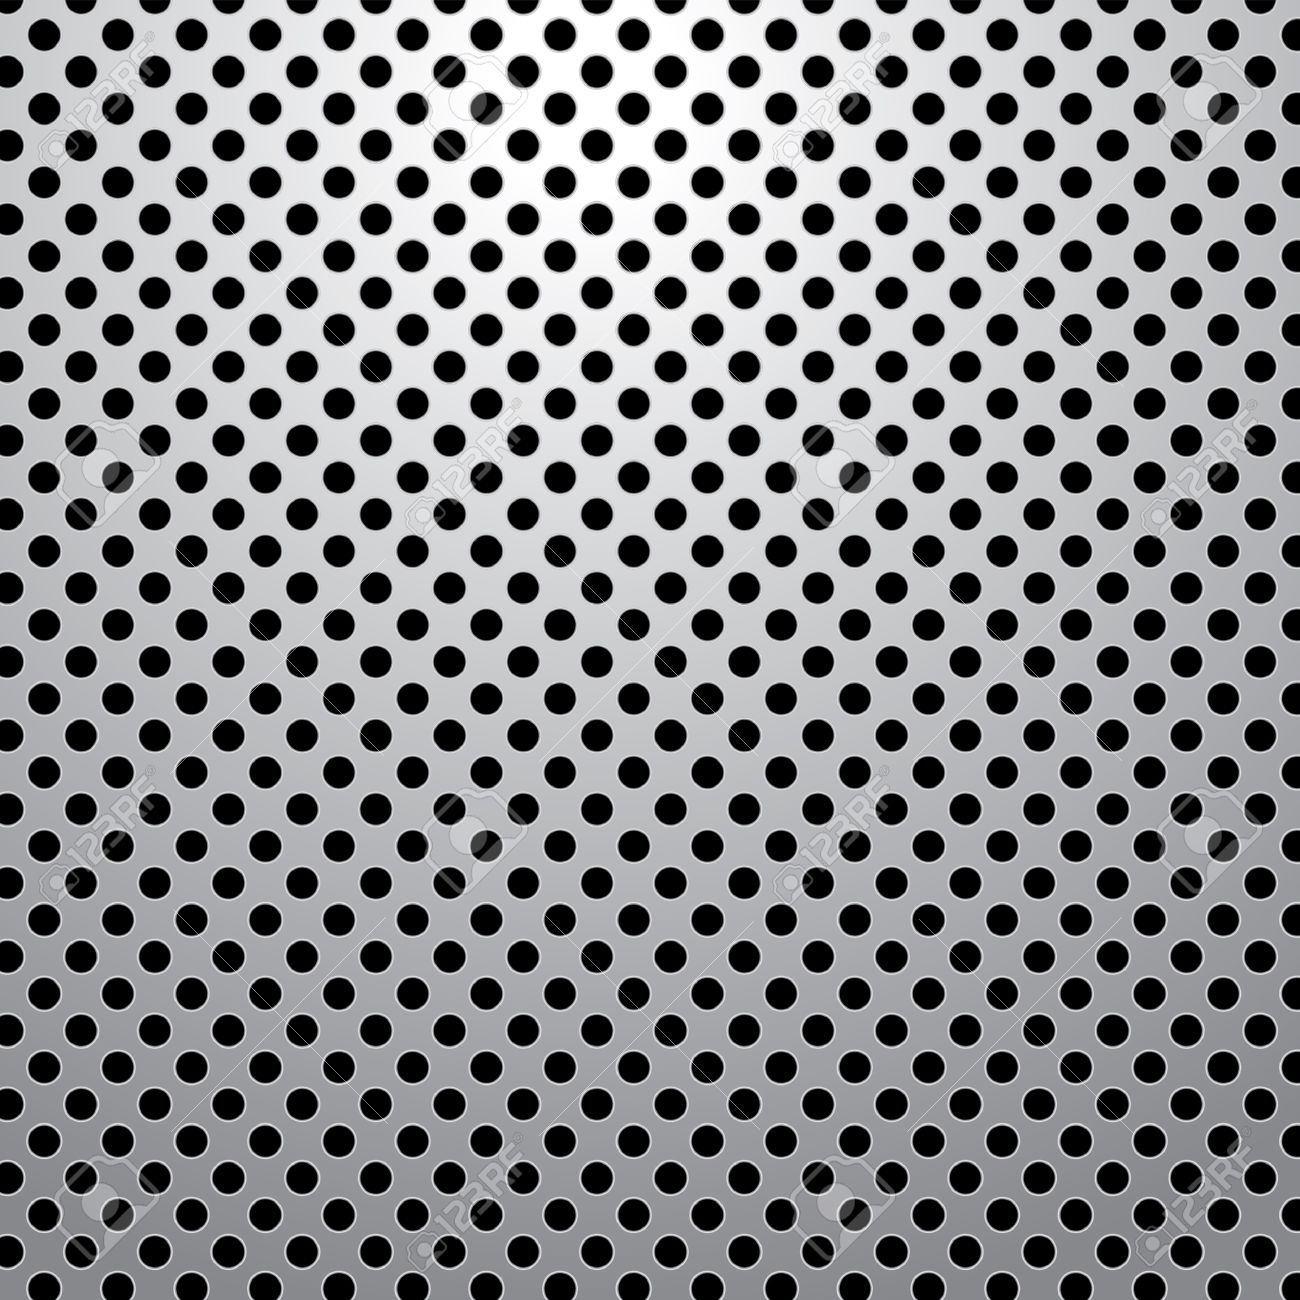Hole: (1090, 1157, 1138, 1200), (135, 1007, 176, 1056), (130, 715, 180, 756), (796, 937, 844, 979), (1127, 1193, 1171, 1237), (390, 1119, 435, 1163), (944, 1010, 989, 1052), (795, 1229, 840, 1271), (96, 969, 139, 1014), (20, 973, 65, 1015), (981, 1195, 1027, 1237), (1055, 1119, 1101, 1161), (206, 568, 252, 610), (1163, 1085, 1213, 1123), (1129, 1120, 1173, 1163), (944, 1085, 988, 1127), (871, 935, 914, 979), (721, 1230, 765, 1273), (60, 860, 104, 902), (60, 936, 104, 979), (1201, 1193, 1246, 1235), (352, 345, 398, 387), (243, 824, 288, 865), (1055, 1194, 1101, 1235), (981, 1121, 1027, 1162), (132, 1231, 179, 1271), (56, 1085, 104, 1124), (686, 14, 729, 57), (1164, 935, 1207, 977), (761, 973, 804, 1015), (1090, 1085, 1135, 1126), (1057, 899, 1101, 940), (835, 1193, 879, 1235), (465, 235, 507, 279), (171, 1194, 215, 1236), (57, 493, 102, 533), (24, 530, 64, 575), (465, 306, 505, 352), (833, 1123, 882, 1160), (1129, 899, 1171, 940), (1129, 971, 1171, 1013), (1129, 1046, 1171, 1088), (1018, 1231, 1061, 1273), (798, 1085, 840, 1126), (392, 310, 435, 351), (244, 235, 287, 276), (317, 898, 360, 939), (61, 1010, 104, 1051), (21, 15, 65, 56), (24, 163, 68, 204), (944, 1231, 988, 1271), (979, 974, 1023, 1014), (873, 565, 913, 610), (835, 604, 879, 644), (761, 1194, 801, 1238), (60, 640, 104, 681), (208, 640, 249, 685), (243, 1046, 287, 1087), (95, 1120, 139, 1161), (651, 935, 690, 980), (983, 1044, 1021, 1090), (573, 1010, 619, 1048), (23, 606, 69, 644), (1202, 530, 1244, 571), (1202, 973, 1244, 1014), (1168, 1011, 1210, 1052), (1240, 1083, 1282, 1125), (1055, 973, 1096, 1014), (762, 454, 804, 495), (724, 863, 765, 905), (835, 973, 876, 1014), (539, 974, 581, 1015), (650, 713, 692, 755), (207, 936, 249, 977), (282, 936, 324, 977), (21, 1120, 63, 1162), (245, 1194, 287, 1236), (1093, 50, 1136, 90), (576, 125, 619, 165), (245, 88, 288, 129), (1165, 1158, 1208, 1199), (1054, 1046, 1096, 1087), (1090, 640, 1133, 681), (355, 1083, 395, 1126), (392, 1046, 435, 1087), (429, 1011, 471, 1051), (612, 383, 655, 424), (282, 273, 325, 313), (98, 381, 140, 421), (135, 789, 177, 830), (133, 936, 176, 976), (207, 1011, 248, 1054), (170, 1121, 213, 1162), (61, 1231, 104, 1271), (723, 715, 767, 755), (870, 1232, 914, 1271), (246, 310, 290, 349), (208, 421, 252, 461), (60, 570, 104, 610), (136, 640, 175, 685), (279, 643, 323, 682), (171, 752, 215, 792), (95, 826, 139, 865), (207, 1158, 251, 1198), (687, 606, 732, 644), (795, 643, 840, 681), (870, 1085, 915, 1123), (649, 274, 694, 312), (540, 235, 579, 280), (133, 494, 179, 532), (171, 606, 217, 644), (96, 604, 142, 642), (1092, 1233, 1138, 1270), (96, 15, 138, 56), (244, 15, 286, 56), (835, 14, 876, 55), (318, 88, 360, 129), (795, 199, 837, 239), (1167, 198, 1207, 239), (1129, 457, 1170, 498), (1240, 567, 1282, 607), (1204, 824, 1244, 865), (1242, 936, 1282, 977), (1204, 1048, 1245, 1088), (1240, 1156, 1281, 1198), (1093, 1011, 1133, 1052), (1094, 862, 1135, 904), (1056, 751, 1098, 792), (688, 235, 730, 275), (871, 492, 913, 532), (800, 567, 840, 608), (835, 749, 875, 790), (724, 1083, 765, 1124), (430, 1231, 471, 1271), (467, 1048, 508, 1088), (577, 420, 619, 461), (649, 346, 690, 387), (246, 531, 288, 571), (170, 899, 211, 940), (100, 1046, 140, 1088), (245, 1119, 287, 1160), (25, 1193, 65, 1235), (761, 15, 804, 55), (1164, 640, 1207, 680), (1204, 1121, 1246, 1161), (1019, 1011, 1062, 1050), (1017, 862, 1060, 901), (910, 236, 949, 279), (870, 789, 913, 829), (796, 1010, 839, 1049), (869, 1157, 912, 1196), (614, 308, 654, 351), (135, 420, 177, 460), (207, 495, 250, 535), (320, 682, 363, 721), (320, 825, 360, 868), (21, 826, 64, 865), (244, 973, 287, 1012), (318, 1045, 357, 1088), (131, 1085, 174, 1124), (282, 1231, 321, 1274), (390, 15, 435, 54), (465, 15, 510, 54), (60, 201, 104, 239), (1165, 1233, 1210, 1271), (1090, 348, 1135, 386), (686, 532, 730, 570), (908, 750, 946, 794), (686, 1121, 730, 1160), (429, 1160, 473, 1198), (96, 456, 140, 494), (280, 496, 324, 535), (244, 679, 288, 717), (96, 679, 140, 717), (317, 752, 361, 790), (242, 752, 286, 790), (795, 1160, 840, 1196), (319, 15, 360, 56), (614, 14, 655, 55), (1018, 199, 1058, 239), (1240, 198, 1281, 238), (1240, 419, 1281, 460), (1240, 640, 1281, 681), (946, 715, 987, 756), (1090, 713, 1131, 754), (1019, 275, 1060, 315), (908, 899, 949, 939), (908, 973, 949, 1013), (688, 974, 729, 1014), (688, 1195, 729, 1236), (540, 1195, 581, 1236), (467, 1121, 507, 1162), (613, 1046, 654, 1087), (540, 310, 581, 350), (319, 235, 360, 275), (135, 273, 175, 313), (319, 1120, 360, 1161), (1129, 15, 1170, 55), (1204, 12, 1243, 54), (1129, 88, 1170, 127), (137, 125, 179, 164), (649, 199, 690, 238), (1167, 271, 1206, 313), (1130, 236, 1171, 275), (1240, 714, 1280, 756), (1129, 826, 1170, 865), (1239, 1012, 1281, 1051), (1240, 1231, 1282, 1270), (836, 236, 877, 275), (762, 308, 804, 348), (799, 862, 838, 904), (762, 899, 801, 940), (724, 937, 765, 976), (724, 1010, 765, 1049), (762, 1046, 801, 1088), (687, 1048, 729, 1087), (579, 1232, 618, 1274), (390, 899, 432, 938), (467, 679, 506, 720), (649, 642, 690, 681), (427, 348, 469, 387), (357, 271, 396, 313), (320, 531, 360, 573), (171, 680, 213, 719), (208, 715, 250, 755), (60, 1157, 101, 1196), (871, 274, 914, 312), (796, 715, 839, 754), (504, 788, 542, 831), (211, 861, 249, 904), (870, 1013, 914, 1050), (171, 532, 215, 569), (1240, 125, 1280, 165), (944, 126, 985, 165), (504, 125, 543, 165), (173, 164, 213, 204), (688, 161, 729, 200), (871, 199, 911, 239), (1130, 310, 1170, 349), (1204, 604, 1244, 643), (1130, 677, 1170, 717), (1240, 789, 1281, 829), (1240, 863, 1281, 902), (1167, 862, 1207, 901), (1020, 936, 1060, 976), (1019, 643, 1058, 683), (762, 236, 802, 275), (725, 273, 765, 312), (763, 532, 804, 571), (836, 680, 876, 719), (870, 714, 910, 755), (835, 826, 875, 865), (688, 900, 729, 939), (910, 1195, 949, 1236), (651, 1231, 690, 1271), (468, 1195, 508, 1235), (356, 1232, 396, 1271), (393, 1195, 433, 1235), (356, 1158, 396, 1198), (614, 1120, 655, 1160), (504, 1085, 544, 1124), (540, 1048, 580, 1088), (504, 1010, 544, 1049), (356, 937, 396, 976), (575, 864, 615, 904), (430, 863, 469, 904), (465, 827, 506, 867), (614, 825, 654, 865), (393, 531, 433, 570), (650, 420, 690, 460), (465, 385, 506, 424), (540, 385, 581, 424), (429, 273, 469, 312), (613, 237, 652, 277), (62, 273, 102, 312), (136, 346, 176, 386), (282, 420, 323, 460), (171, 826, 212, 865), (171, 974, 211, 1014), (135, 1160, 175, 1199), (99, 1195, 139, 1235), (210, 1232, 250, 1271), (355, 52, 396, 90), (908, 15, 950, 54), (982, 15, 1024, 54), (540, 88, 579, 130), (467, 87, 505, 129), (1205, 677, 1243, 719), (1206, 899, 1244, 940), (983, 899, 1021, 940), (1093, 273, 1131, 314), (724, 346, 765, 385), (836, 531, 877, 569), (762, 752, 804, 790), (724, 790, 765, 829), (835, 901, 876, 939), (836, 1046, 874, 1088), (908, 1048, 950, 1086), (910, 1120, 948, 1162), (615, 1195, 654, 1237), (540, 1120, 579, 1162), (615, 974, 654, 1015), (540, 899, 579, 940), (649, 790, 690, 829), (430, 715, 471, 754), (615, 530, 654, 571), (25, 310, 67, 348), (25, 385, 67, 423), (207, 1085, 249, 1123), (1165, 54, 1208, 90), (96, 163, 139, 200), (871, 348, 914, 385), (686, 679, 729, 715), (721, 1160, 764, 1196), (133, 569, 176, 606), (210, 51, 249, 90), (62, 51, 101, 90), (798, 51, 837, 90), (1057, 14, 1096, 54), (1057, 89, 1096, 129), (689, 88, 729, 127), (171, 89, 211, 129), (504, 200, 543, 239), (1204, 385, 1243, 424), (1130, 531, 1169, 570), (1130, 604, 1169, 643), (1020, 1158, 1060, 1198), (946, 863, 986, 902), (1057, 826, 1096, 865), (1020, 789, 1060, 829), (1056, 680, 1095, 719), (982, 457, 1021, 496), (836, 310, 875, 349), (688, 457, 727, 496), (799, 495, 838, 535), (724, 642, 763, 681), (763, 1121, 802, 1161), (579, 1157, 618, 1196), (577, 1083, 617, 1123), (465, 901, 505, 940), (651, 862, 690, 901), (430, 790, 469, 830), (504, 717, 543, 756), (394, 385, 433, 424), (319, 460, 358, 499), (98, 531, 137, 570), (62, 789, 101, 829), (137, 864, 176, 904), (285, 863, 324, 902), (171, 15, 212, 54), (539, 15, 580, 54), (136, 200, 174, 240), (726, 199, 764, 239), (981, 164, 1021, 202), (1055, 164, 1095, 202), (1205, 235, 1243, 275), (1240, 271, 1279, 312), (1130, 381, 1168, 421), (1167, 568, 1207, 606), (1167, 715, 1207, 754), (1204, 752, 1244, 790), (946, 1160, 987, 1198), (982, 679, 1023, 717), (1056, 605, 1094, 645), (1057, 530, 1095, 570), (1021, 494, 1060, 535), (688, 386, 729, 424), (835, 456, 875, 494), (725, 495, 765, 533), (910, 605, 950, 643), (871, 643, 912, 681), (871, 863, 912, 901), (652, 1158, 690, 1199), (650, 1083, 690, 1121), (358, 1010, 396, 1050), (430, 936, 470, 974), (465, 531, 506, 569), (432, 494, 470, 535), (504, 349, 544, 387), (320, 971, 358, 1012), (283, 1011, 321, 1051), (283, 1085, 324, 1123), (577, 54, 619, 90), (98, 89, 139, 126), (1020, 1083, 1057, 1125), (983, 533, 1025, 570), (763, 385, 805, 421), (355, 423, 396, 460), (579, 346, 615, 388), (502, 276, 544, 313), (171, 311, 213, 348), (210, 348, 251, 385), (320, 383, 357, 425), (24, 680, 65, 717), (285, 713, 321, 755), (96, 754, 138, 790), (24, 1049, 65, 1086), (318, 1198, 360, 1235), (429, 127, 471, 163), (760, 680, 802, 715), (502, 1235, 545, 1270), (96, 238, 139, 274), (171, 240, 215, 275), (651, 52, 690, 90), (430, 52, 469, 90), (135, 54, 174, 92), (1020, 52, 1060, 90), (1240, 52, 1280, 90), (356, 199, 394, 238), (945, 199, 985, 237), (1205, 163, 1243, 202), (1167, 421, 1206, 460), (1240, 494, 1280, 532), (1167, 495, 1206, 533), (1130, 752, 1169, 790), (948, 938, 986, 977), (1020, 717, 1058, 756), (946, 640, 985, 680), (946, 495, 986, 533), (1057, 458, 1096, 496), (983, 310, 1021, 349), (981, 237, 1020, 275), (910, 310, 948, 349), (910, 532, 948, 571), (688, 754, 726, 793), (504, 1158, 542, 1198), (432, 1083, 470, 1123), (467, 974, 506, 1012), (651, 1012, 690, 1050), (504, 938, 542, 977), (615, 901, 654, 940), (615, 752, 654, 792), (540, 679, 579, 718), (614, 681, 654, 719), (615, 605, 654, 644), (652, 570, 690, 610), (579, 569, 617, 608), (467, 458, 506, 496), (615, 458, 654, 498), (173, 458, 212, 496), (25, 458, 64, 496), (210, 788, 248, 827), (99, 901, 138, 939), (171, 1048, 211, 1086), (761, 89, 801, 126), (210, 125, 246, 165), (318, 163, 358, 200), (468, 161, 505, 201), (983, 606, 1020, 646), (1056, 238, 1096, 275), (393, 826, 433, 863), (540, 605, 581, 642), (540, 535, 581, 571), (100, 311, 140, 348), (245, 460, 286, 496), (61, 718, 101, 755), (171, 386, 213, 421), (282, 790, 324, 826), (285, 1157, 320, 1199), (318, 607, 361, 642), (946, 52, 985, 90), (1094, 126, 1132, 164), (210, 200, 248, 238), (430, 199, 468, 237), (1094, 937, 1132, 975), (1093, 790, 1131, 829), (1021, 421, 1060, 460), (1021, 348, 1060, 386), (800, 420, 838, 458), (873, 421, 911, 460), (799, 790, 837, 829), (358, 790, 396, 829), (540, 754, 579, 792), (504, 642, 542, 680), (358, 569, 396, 607), (504, 495, 542, 533), (430, 421, 468, 460), (504, 54, 543, 90), (871, 54, 911, 90), (1206, 89, 1243, 129), (1019, 126, 1058, 163), (725, 127, 764, 164), (393, 89, 432, 126), (615, 163, 652, 202), (837, 163, 874, 202), (1169, 789, 1206, 829), (946, 790, 986, 827), (985, 755, 1021, 794), (1094, 496, 1133, 533), (1094, 420, 1131, 460), (801, 274, 840, 311), (726, 570, 765, 607), (394, 754, 433, 790), (392, 680, 431, 717), (395, 605, 432, 644), (504, 568, 540, 607), (540, 460, 580, 496), (210, 275, 249, 312), (871, 127, 912, 163), (61, 127, 101, 163), (1130, 164, 1170, 200), (1056, 385, 1096, 420), (725, 421, 765, 457), (430, 570, 470, 606), (654, 493, 689, 533), (246, 902, 288, 937), (725, 54, 763, 90), (800, 126, 838, 163), (615, 90, 654, 127), (357, 129, 395, 165), (1168, 346, 1205, 385), (1206, 458, 1243, 496), (985, 827, 1021, 865), (946, 421, 985, 458), (836, 383, 873, 421), (910, 458, 946, 496), (689, 826, 726, 864), (540, 829, 579, 865), (577, 790, 615, 827), (467, 754, 505, 790), (579, 717, 617, 754), (357, 715, 395, 752), (579, 496, 615, 535), (504, 421, 540, 460), (579, 273, 617, 310), (63, 346, 100, 385), (248, 385, 286, 421), (248, 606, 285, 644), (24, 754, 62, 790), (26, 899, 64, 936), (25, 90, 64, 126), (282, 201, 321, 237), (1243, 346, 1279, 386), (911, 829, 950, 864), (762, 829, 801, 864), (394, 458, 433, 494), (62, 421, 101, 457), (912, 679, 946, 719), (948, 274, 985, 311), (911, 385, 948, 421), (357, 865, 394, 902), (1168, 126, 1204, 164), (651, 127, 689, 163), (246, 165, 285, 201), (1021, 570, 1060, 606), (948, 346, 983, 385), (690, 312, 729, 348), (763, 607, 801, 643), (577, 938, 615, 974), (504, 865, 542, 901), (579, 643, 617, 679), (357, 496, 395, 532), (320, 311, 356, 349), (285, 349, 323, 385), (393, 164, 432, 199), (1206, 310, 1240, 349), (395, 974, 430, 1013), (355, 644, 394, 679), (285, 568, 319, 607), (285, 54, 320, 90), (985, 90, 1021, 126), (911, 90, 948, 126), (837, 90, 874, 126), (285, 129, 321, 164), (542, 165, 579, 201), (579, 201, 615, 237), (946, 571, 983, 607), (985, 386, 1021, 421), (1058, 312, 1094, 349), (394, 236, 430, 273), (26, 238, 63, 274), (763, 163, 798, 201), (801, 346, 836, 385), (431, 644, 469, 679), (1096, 570, 1130, 610), (911, 164, 946, 200), (1094, 201, 1130, 237), (467, 608, 506, 640)
